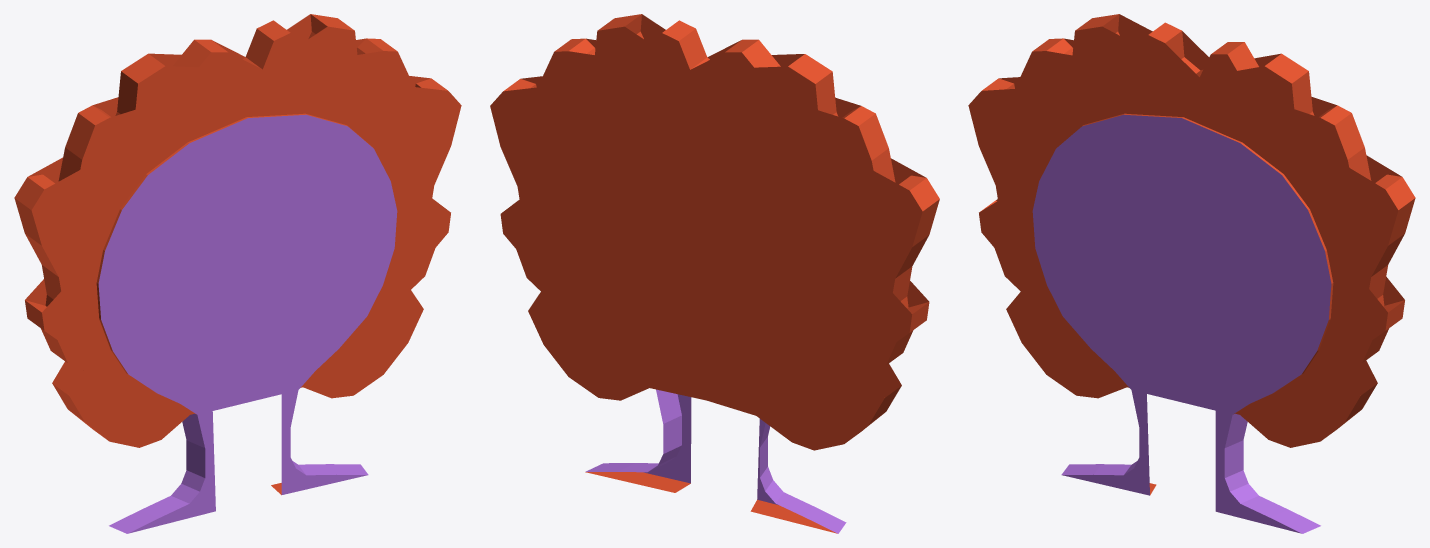
The model's file is puerta arreglada.fbx.
3 views of the same model, side by side, from view 1: azimuth 30°, elevation 25°; view 2: azimuth 150°, elevation 25°; view 3: azimuth 330°, elevation 25° (orthographic).
Parts seen in each view (by area): view 1: marco puerta, llamas puerta; view 2: llamas puerta, marco puerta; view 3: marco puerta, llamas puerta.
Part boxes in pixels (bbox=[...]): marco puerta: bbox=[96, 113, 397, 533]; llamas puerta: bbox=[14, 14, 461, 447]; llamas puerta: bbox=[490, 14, 939, 450]; marco puerta: bbox=[585, 389, 846, 533]; marco puerta: bbox=[1032, 113, 1333, 533]; llamas puerta: bbox=[968, 14, 1415, 447].
Bounding box in the file's own units: 411 × 420 × 30.62.
